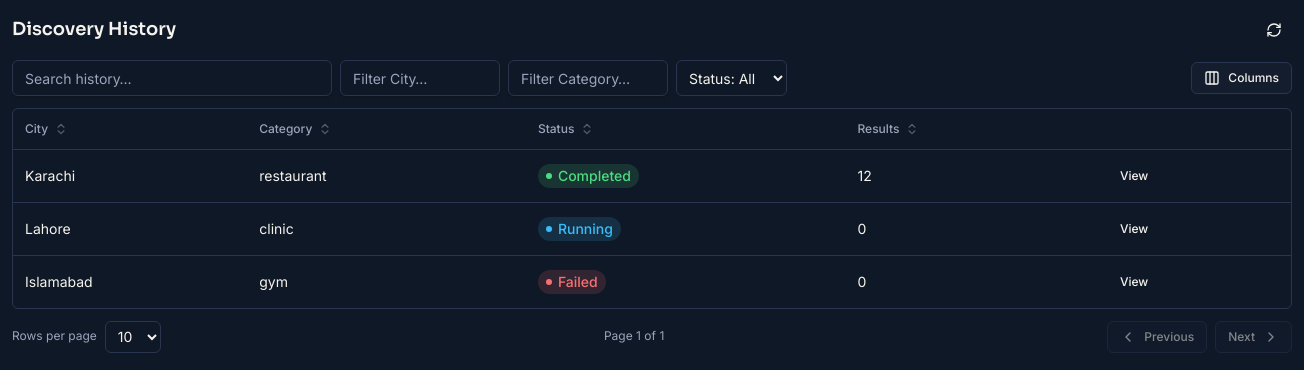
Test case: DiscoveryHistoryTable › filters via the global search box, client-side over the loaded top-50 list
The width and height of the screenshot is (1304, 370).
Expected: the text "Karachi" is shown, [13,149,247,202]
Type "clinic" into the field labelled "Search" at [172, 78], box [12,60,332,96]
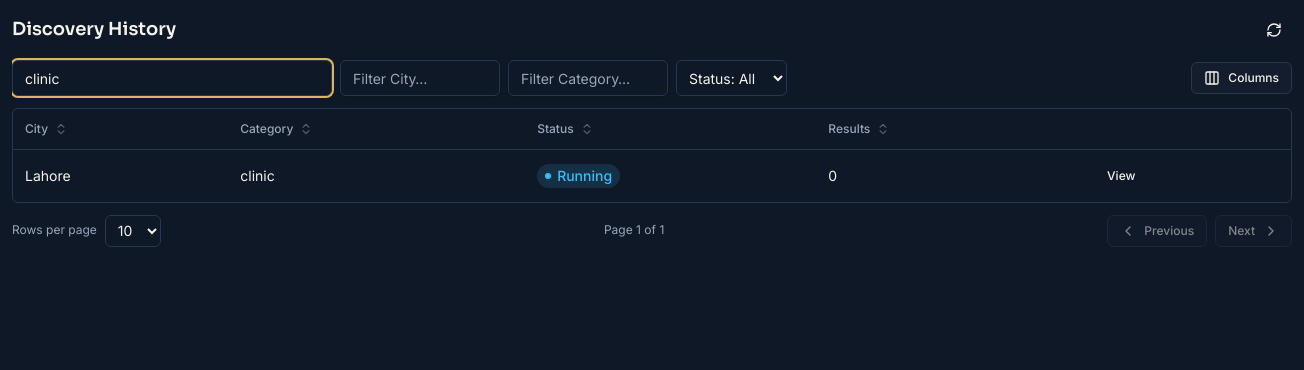
Expected: the text "Lahore" is shown, [13,149,228,202]
Now the text "gym" is gone
